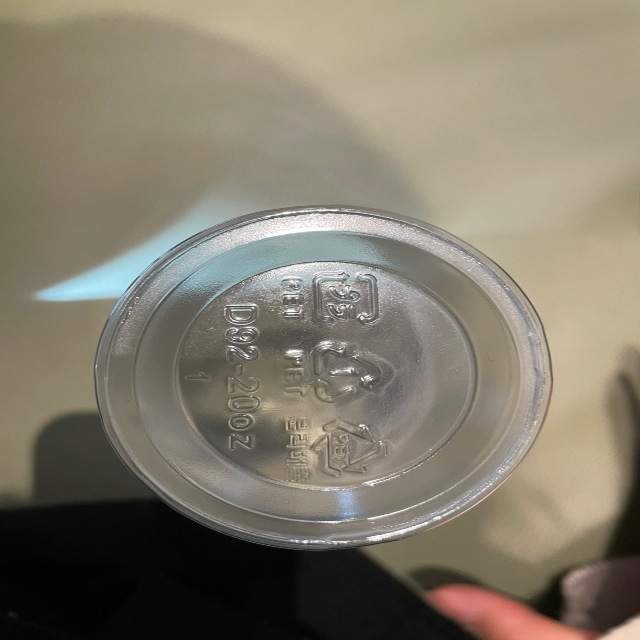pet: (277, 413, 400, 484), (280, 340, 395, 410), (276, 260, 384, 329)
